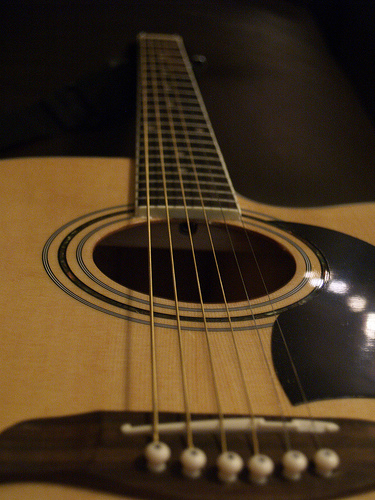guitar: (1, 25, 375, 499)
